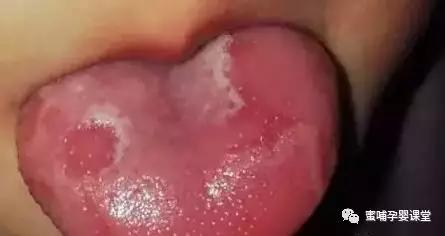baitaishe: (14, 25, 339, 236)
botaishe: (209, 26, 307, 162), (54, 109, 128, 188)
pangdashe: (14, 25, 339, 236)
